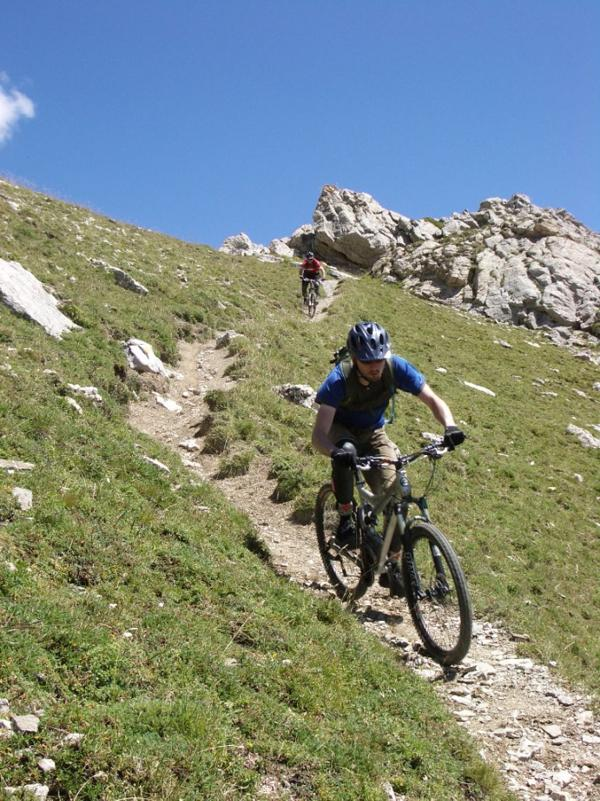person: (311, 315, 467, 598)
